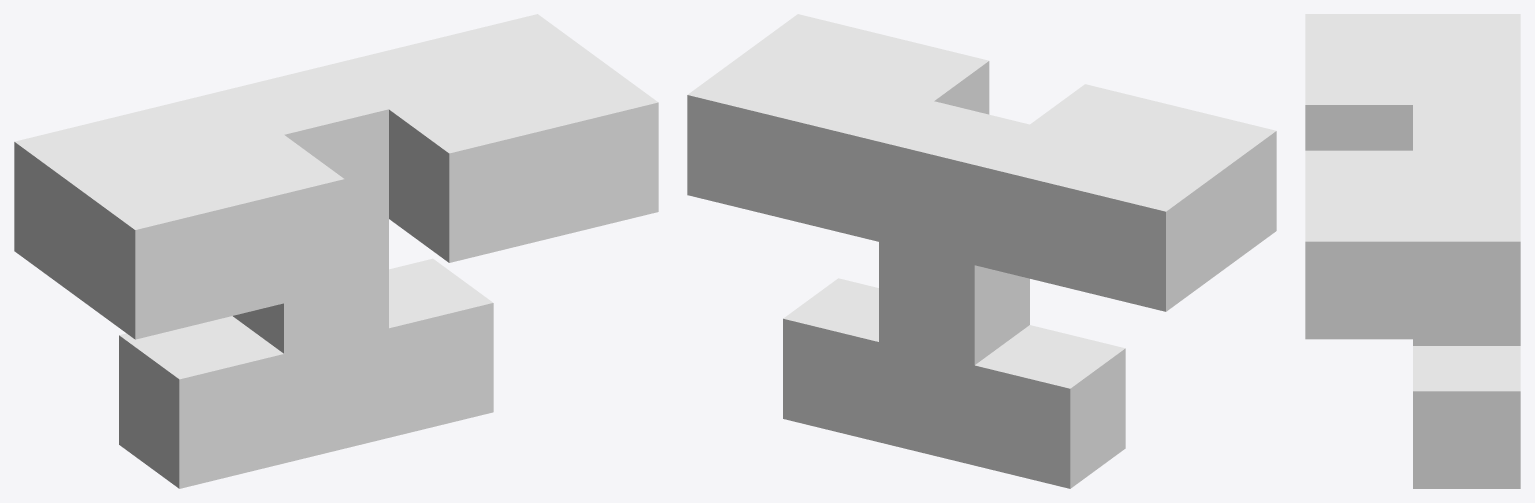
The model's file is Spine2.obj.
The picture shows the model from 3 angles, left to right: view 1: azimuth 30°, elevation 25°; view 2: azimuth 150°, elevation 25°; view 3: azimuth 270°, elevation 25°; orthographic projection. The views are drawn at different scales.
Size of the model in its own units: 5 by 3 by 2.
Materials: 1 (1 with a texture image).
